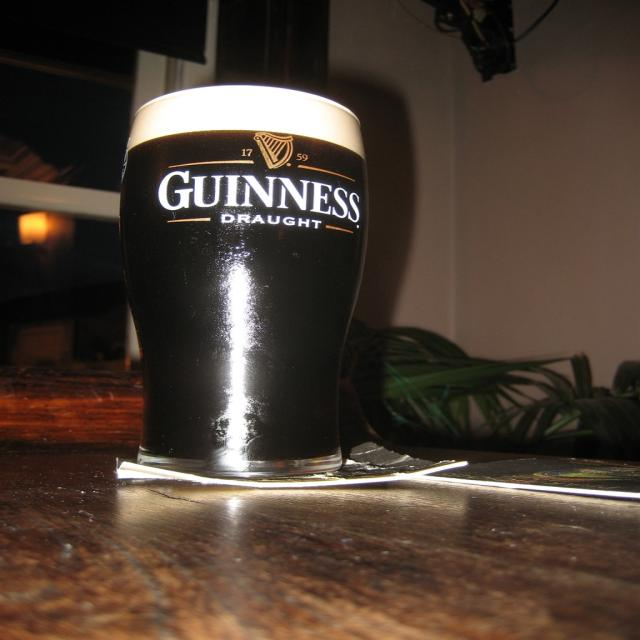guiness: (153, 131, 367, 224)
